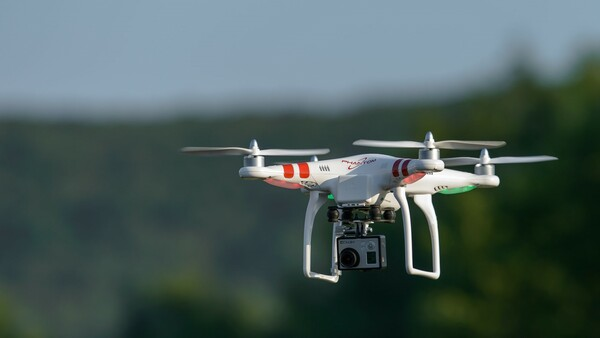drone: (180, 131, 559, 286)
